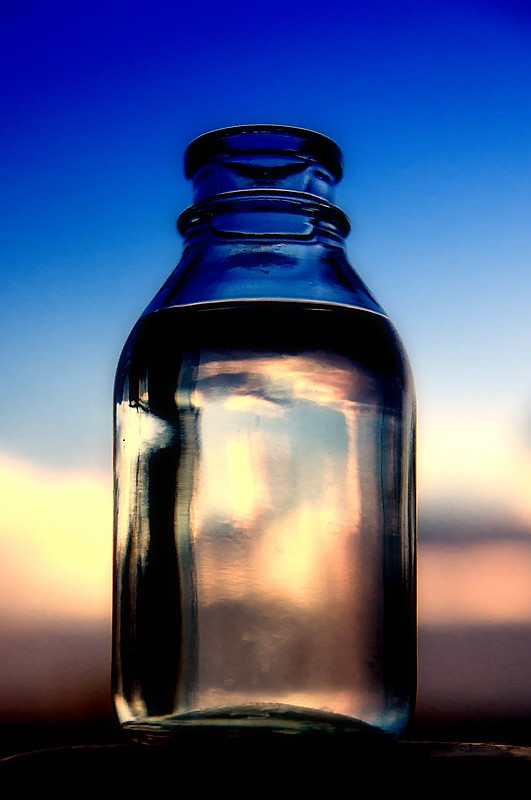bottle: (81, 67, 493, 751)
